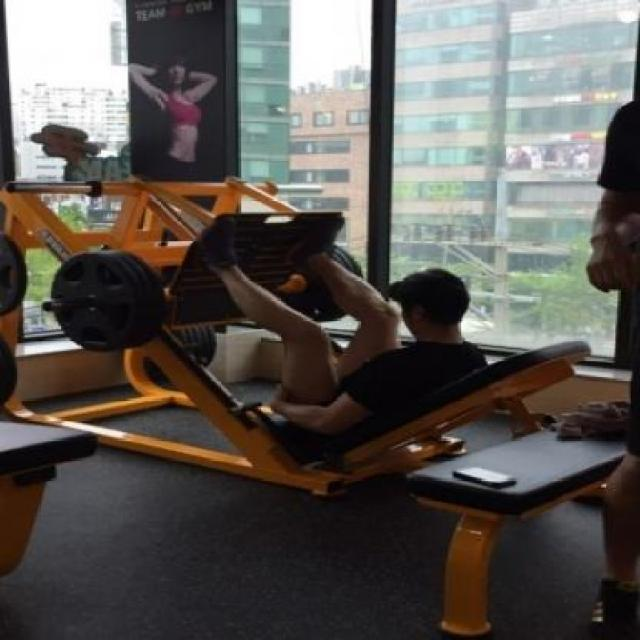leg press: (6, 125, 614, 588)
